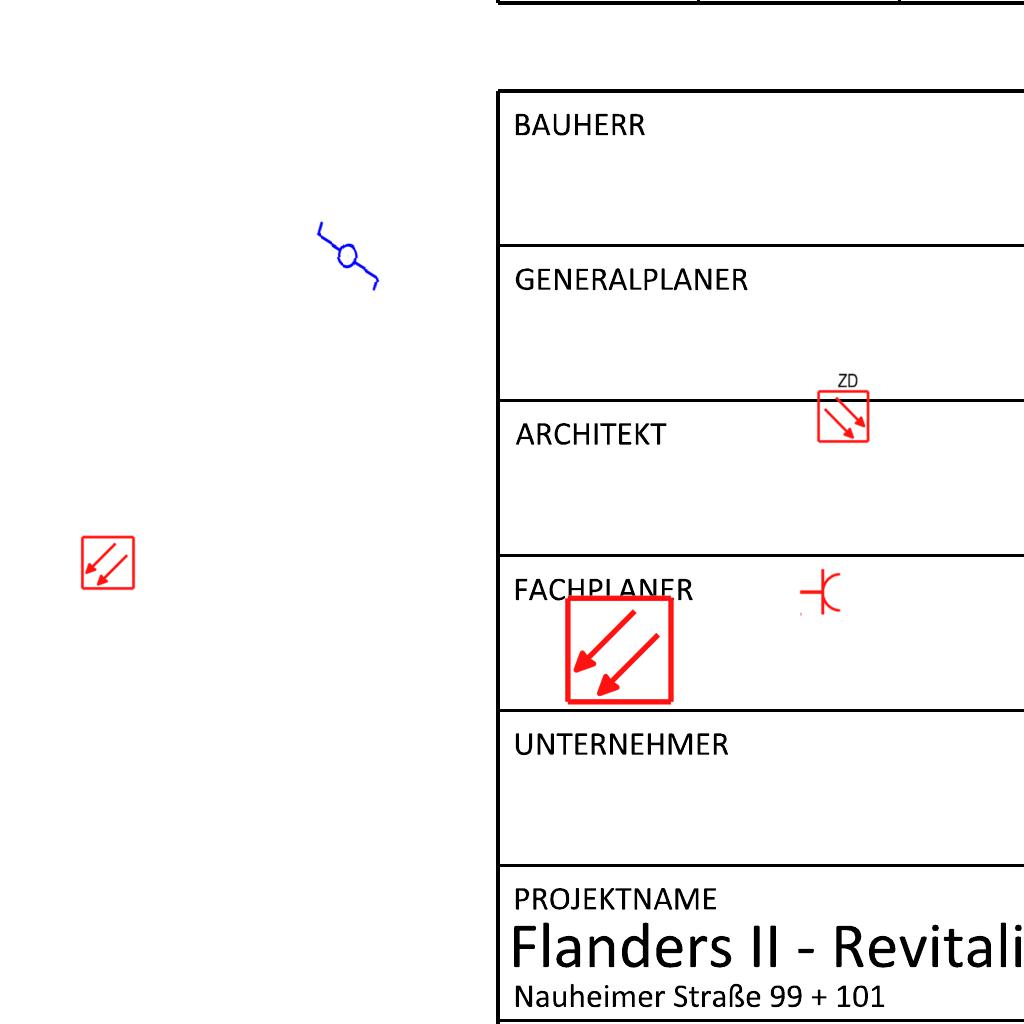RMO_Rauchmelder_optischer: (563, 594, 676, 707), (80, 535, 136, 591)
Schukosteckdose_einfach: (799, 568, 842, 618)
Wechselschalter: (309, 210, 389, 294)
ZD_Melder_in_Zwischendecke_mit_Revisionsoeffnung_mind_40_x_40_cm: (814, 370, 871, 444)
